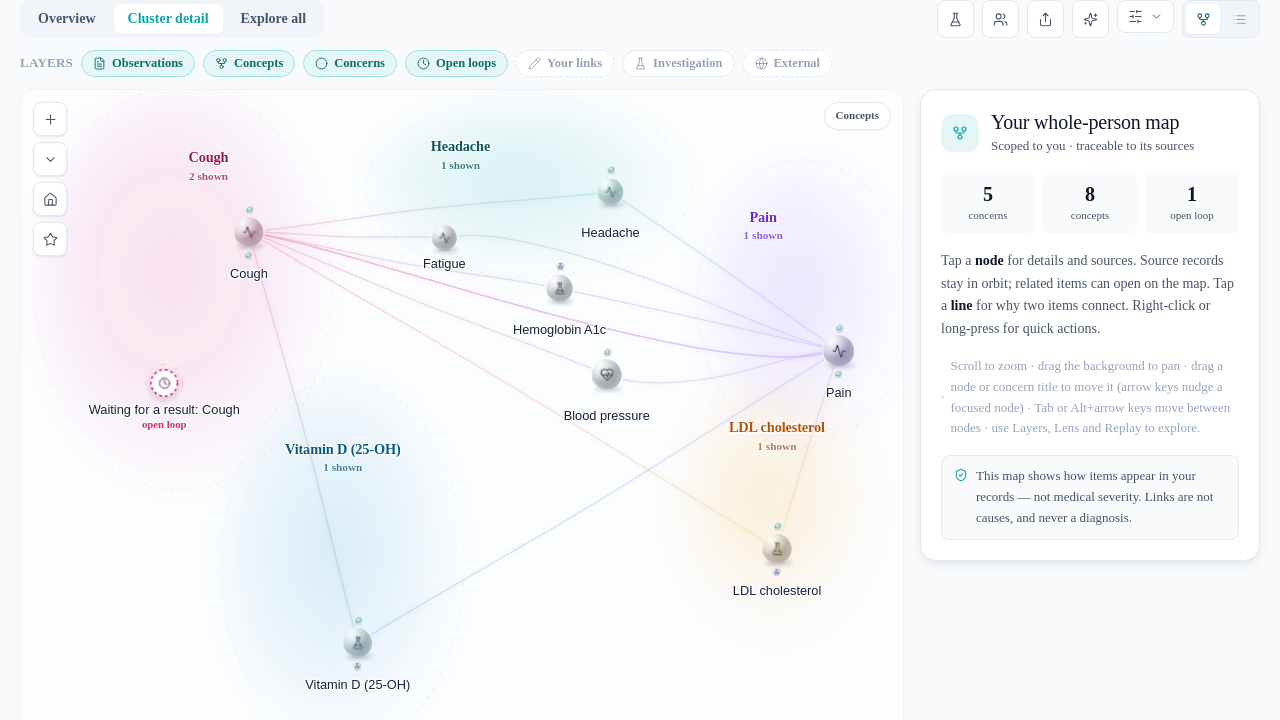
Scenario: GraphLive on the person's real data › offers a List view grouped by concern with links to each thread
What coordinates should you click on to do the following:
click the tab named "List"
I would click on:
 (1239, 19)
Its box is top-left (1222, 4), bottom-right (1256, 34).
(page scrolled)
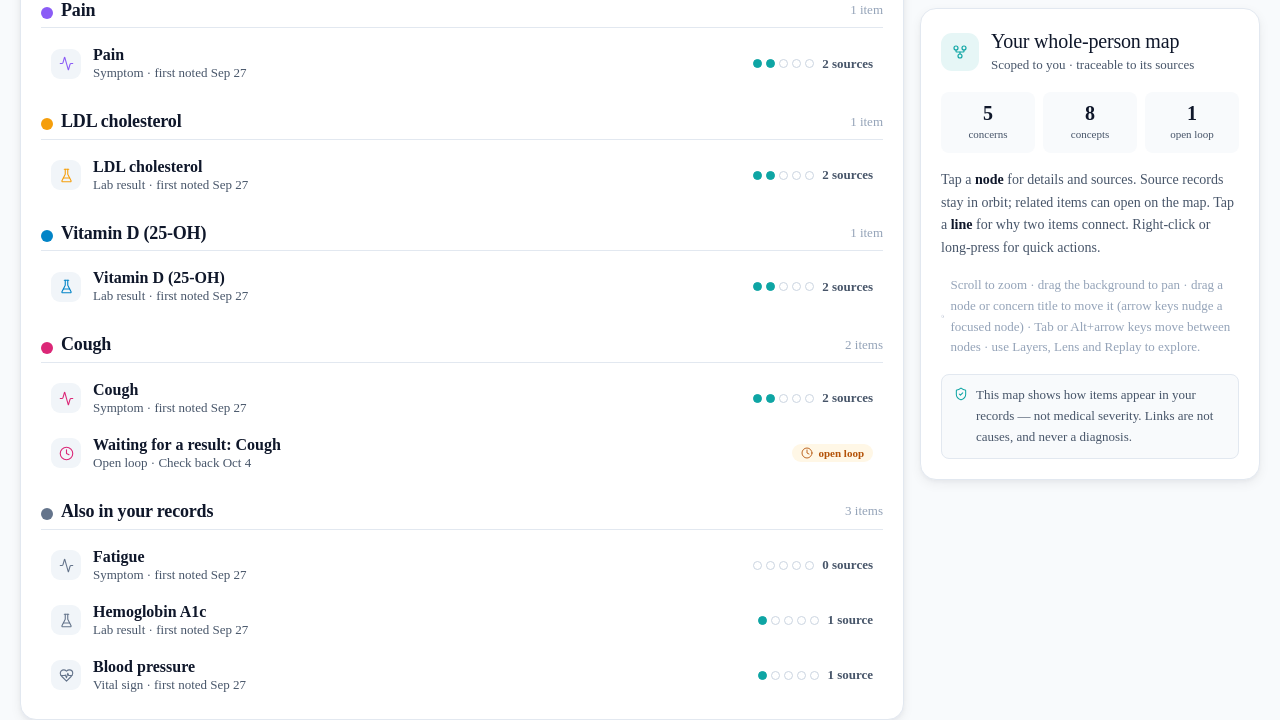
Expected: the element "Also in your records" shows "Blood pressure", top-left (41, 648), bottom-right (883, 703)
